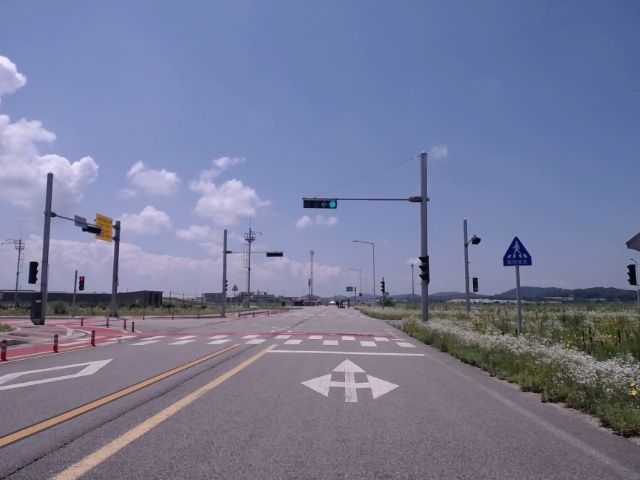all_green_4: (303, 198, 338, 210)
